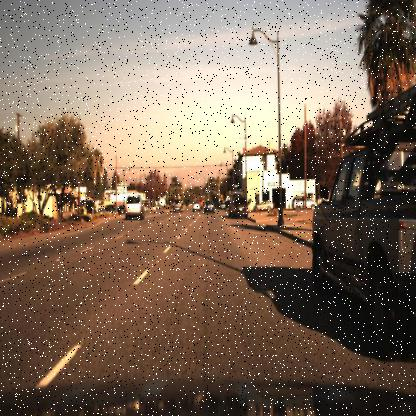car: (310, 81, 416, 355), (118, 190, 147, 228), (231, 190, 252, 222), (291, 192, 317, 212), (252, 193, 274, 216), (290, 192, 318, 209), (167, 192, 185, 216), (202, 196, 219, 218), (254, 197, 274, 215), (190, 198, 203, 218)
